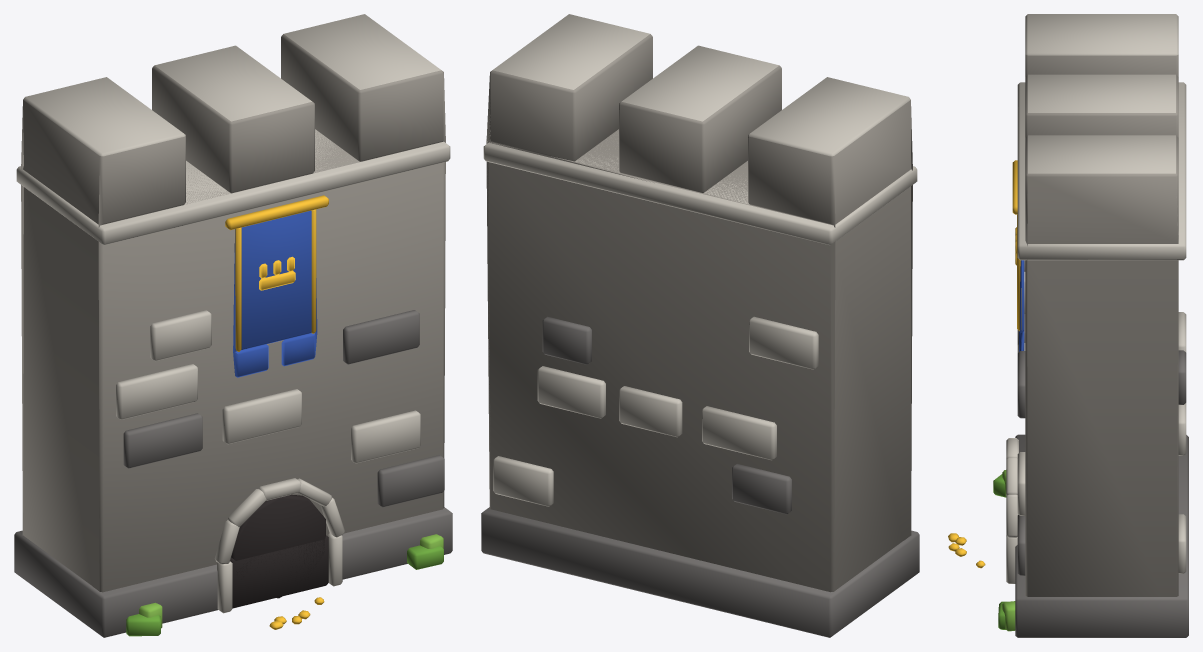
The model's file is B_MedCastleWallHole.fbx.
The picture shows the model from 3 angles, left to right: view 1: azimuth 30°, elevation 25°; view 2: azimuth 150°, elevation 25°; view 3: azimuth 270°, elevation 25°; orthographic projection. The views are drawn at different scales.
Parts seen in each view (by area): view 1: M_CastleWallHole; view 2: M_CastleWallHole; view 3: M_CastleWallHole.
Boxes of the visible parts, x1,y1,x2,y2 form: M_CastleWallHole: (14, 14, 452, 637); M_CastleWallHole: (481, 14, 919, 637); M_CastleWallHole: (948, 14, 1188, 637).
Size of the model in its own units: 3.06 by 4.01 by 1.89.
Materials: 1 (1 with a texture image).
